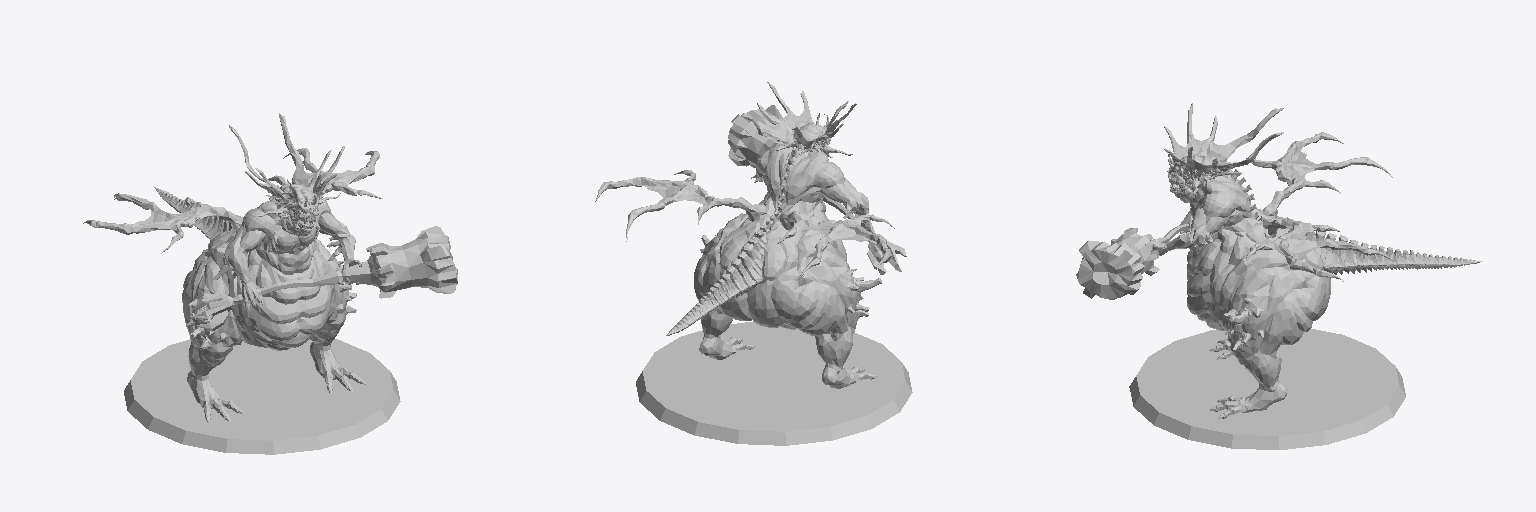
Rendered from Asylum.obj.
3 views of the same model, side by side, from view 1: azimuth 30°, elevation 25°; view 2: azimuth 150°, elevation 25°; view 3: azimuth 270°, elevation 25° (orthographic).
Visible parts, largest first — view 1: mesh0, Mesh_0010.019_Mesh_0010.011_Mesh_0010.019_Mesh_0010.002; view 2: mesh0, Mesh_0010.019_Mesh_0010.011_Mesh_0010.019_Mesh_0010.002; view 3: mesh0, Mesh_0010.019_Mesh_0010.011_Mesh_0010.019_Mesh_0010.002.
Part boxes in pixels (left/top/right/bottom): mesh0: left=83, top=113, right=457, bottom=422; Mesh_0010.019_Mesh_0010.011_Mesh_0010.019_Mesh_0010.002: left=124, top=339, right=400, bottom=454; mesh0: left=595, top=82, right=906, bottom=388; Mesh_0010.019_Mesh_0010.011_Mesh_0010.019_Mesh_0010.002: left=636, top=322, right=912, bottom=445; mesh0: left=1076, top=103, right=1482, bottom=418; Mesh_0010.019_Mesh_0010.011_Mesh_0010.019_Mesh_0010.002: left=1129, top=329, right=1405, bottom=449.
Size of the model in its own units: 7.42 by 6.66 by 9.07.